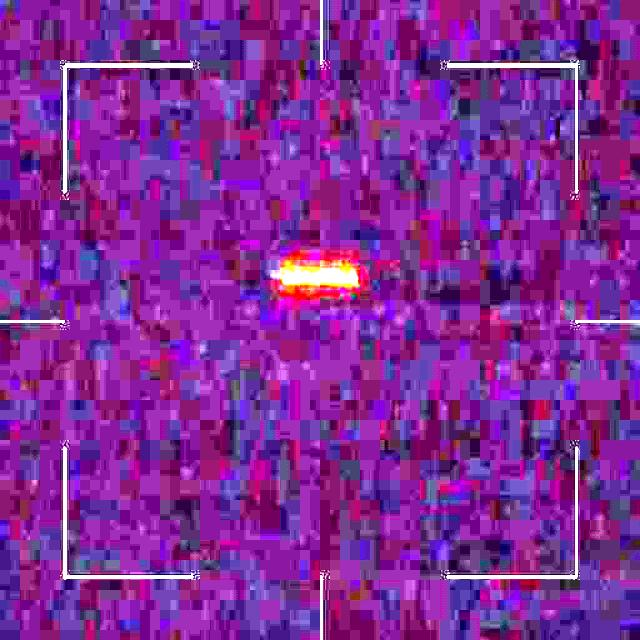bird: (280, 262, 361, 291)
